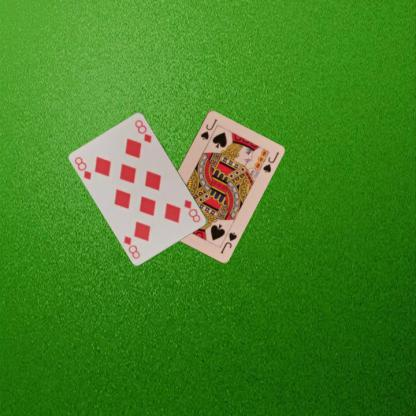8d: (181, 197, 202, 224), (72, 154, 93, 181)
Js: (198, 116, 219, 141), (218, 229, 238, 255)
